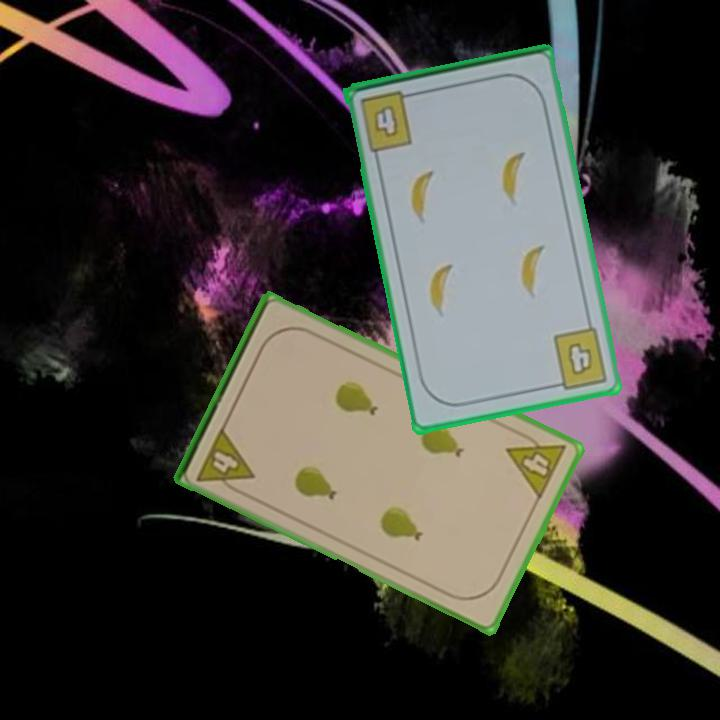4b: (547, 324, 611, 392), (357, 86, 419, 154)
4p: (503, 425, 569, 503), (193, 423, 257, 498)
